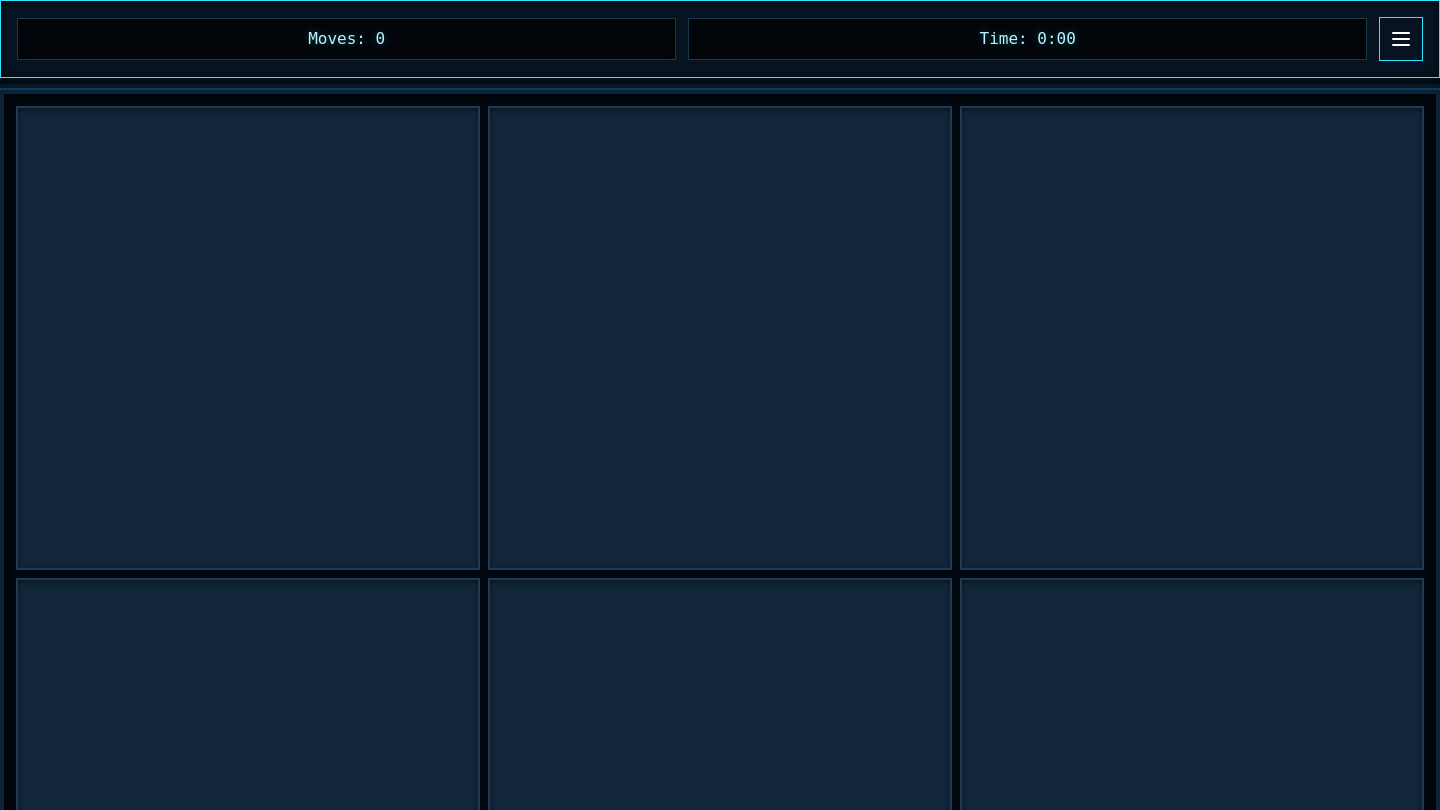
Test: GameScreen › opens the in-game menu from the status row button
The image size is (1440, 810).
Click the button named "Open game menu" at (1401, 39), box [1379,17,1423,61]
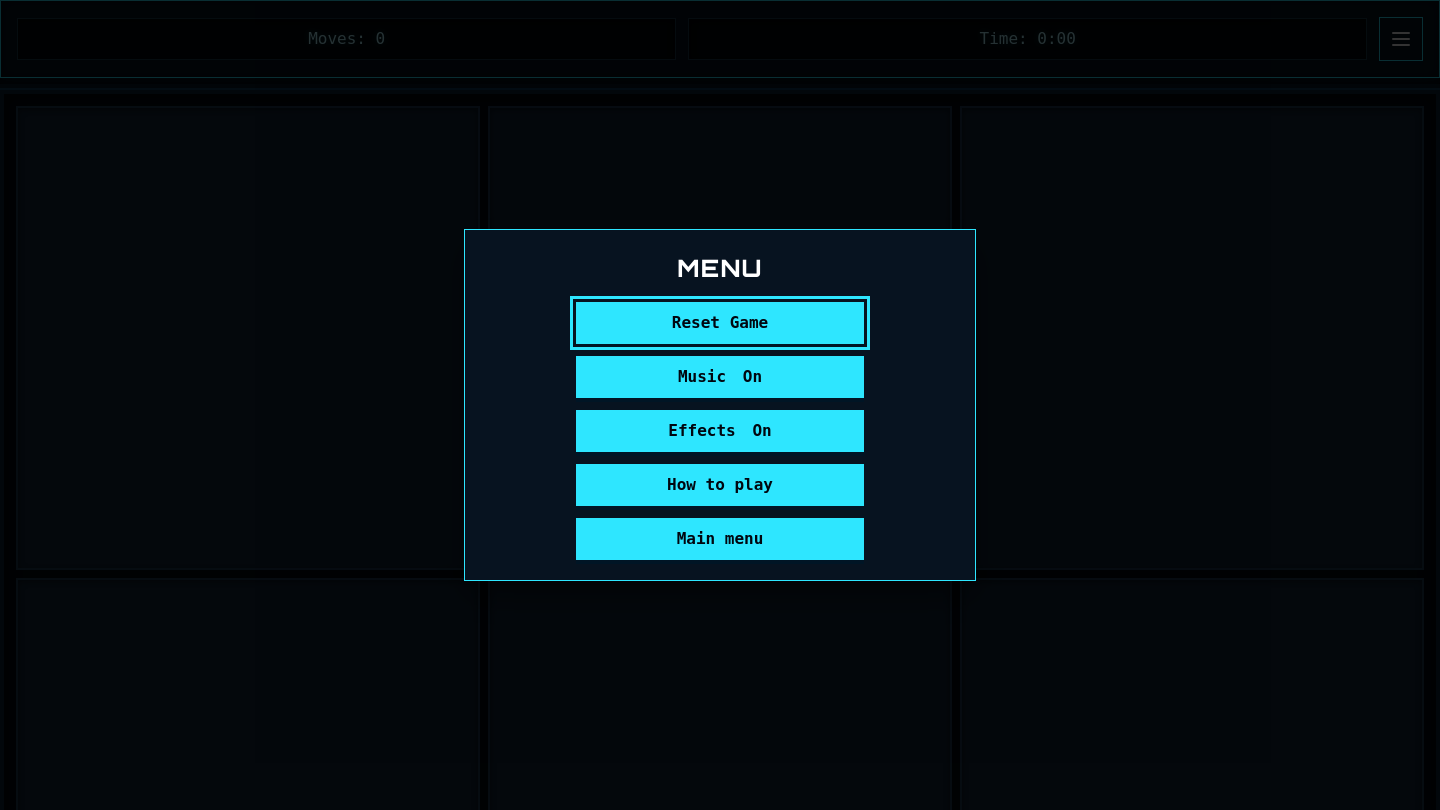
Result: the dialog is shown at [464,229,976,581]
Result: the heading "Menu" is shown at [677,253,763,283]
